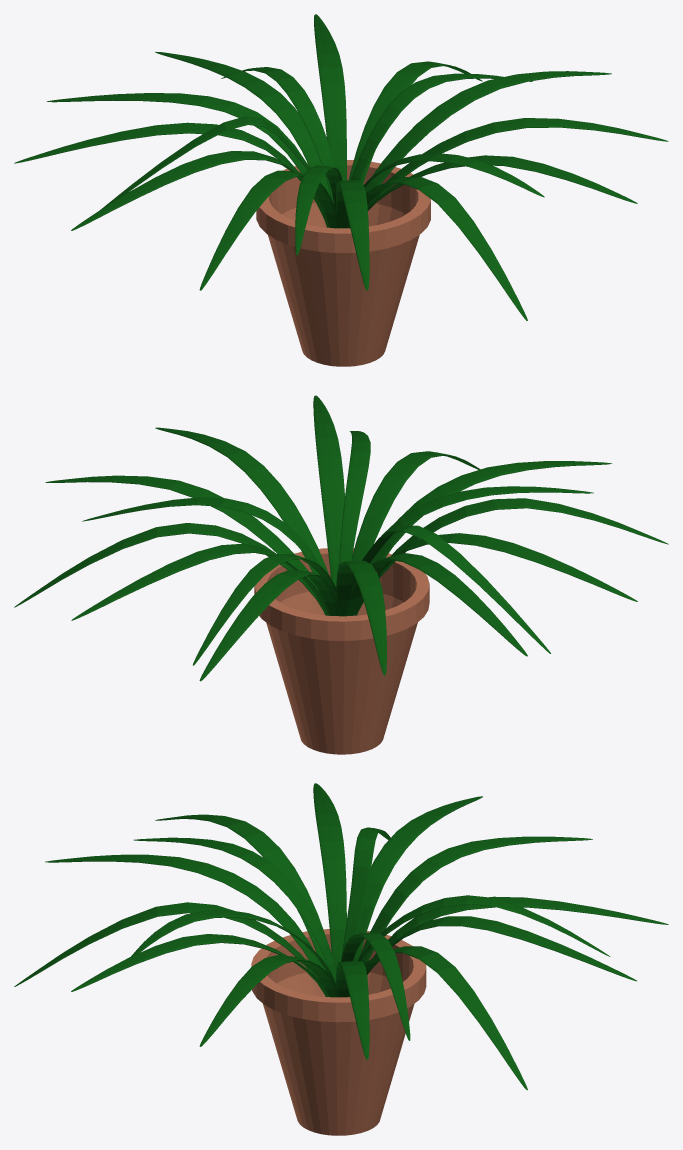
File: plante.obj
3 renders of one model, top to bottom at view 1: azimuth 30°, elevation 25°; view 2: azimuth 150°, elevation 25°; view 3: azimuth 270°, elevation 25°, orthographic.
Size of the model in its own units: 6.57 by 2.65 by 6.57.
